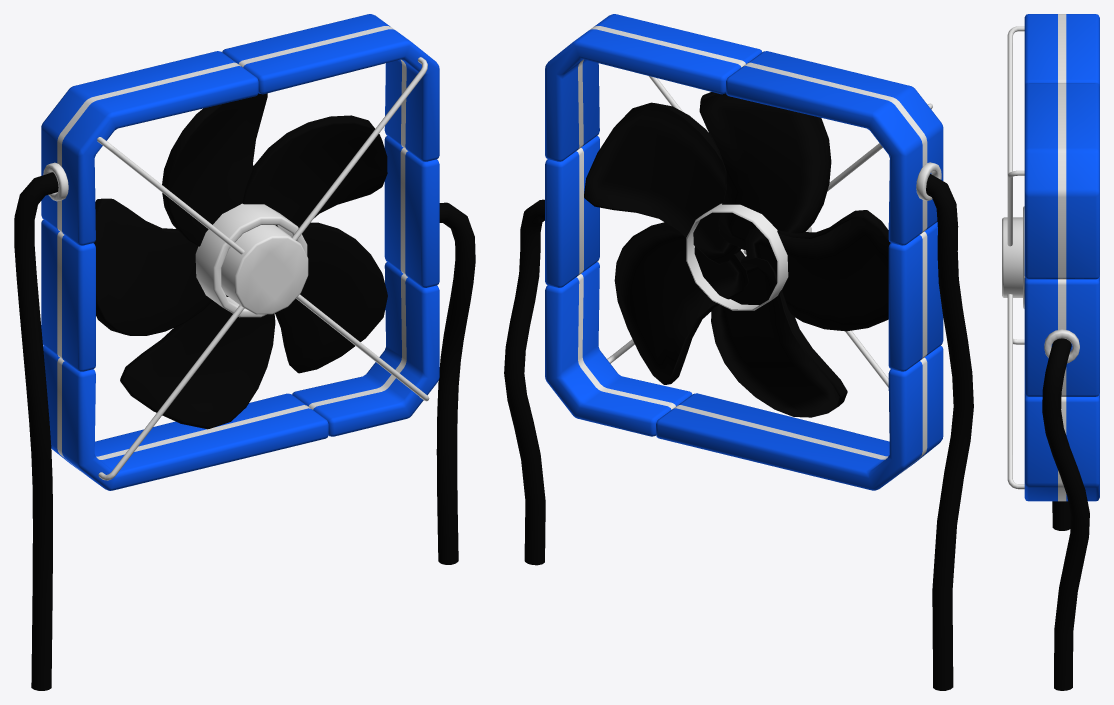
The model's file is LevelRework_Fan_FrameBaked.fbx.
The picture shows the model from 3 angles, left to right: view 1: azimuth 30°, elevation 25°; view 2: azimuth 150°, elevation 25°; view 3: azimuth 270°, elevation 25°; orthographic projection. The views are drawn at different scales.
Parts seen in each view (by area): view 1: Fan_FrameBaked, Fan_BladesBaked, NurbsCurveBaked.001, Fan_CenterBaked, NurbsCurveBaked, Fan_SupportPolesBaked; view 2: Fan_FrameBaked, Fan_BladesBaked, NurbsCurveBaked.001, NurbsCurveBaked, Fan_CenterBaked, Fan_SupportPolesBaked; view 3: Fan_FrameBaked, NurbsCurveBaked, Fan_SupportPolesBaked, Fan_CenterBaked, CylinderBaked, NurbsCurveBaked.001.
Boxes of the visible parts, left/top/right/bottom form: Fan_FrameBaked: left=41, top=14, right=439, bottom=490; Fan_BladesBaked: left=94, top=93, right=387, bottom=429; NurbsCurveBaked.001: left=14, top=172, right=58, bottom=690; Fan_CenterBaked: left=195, top=203, right=308, bottom=317; NurbsCurveBaked: left=436, top=202, right=475, bottom=564; Fan_SupportPolesBaked: left=97, top=57, right=429, bottom=480; Fan_FrameBaked: left=545, top=14, right=943, bottom=490; Fan_BladesBaked: left=584, top=92, right=890, bottom=417; NurbsCurveBaked.001: left=926, top=174, right=973, bottom=690; NurbsCurveBaked: left=504, top=199, right=545, bottom=565; Fan_CenterBaked: left=686, top=203, right=811, bottom=310; Fan_SupportPolesBaked: left=607, top=76, right=932, bottom=387; Fan_FrameBaked: left=1024, top=14, right=1099, bottom=501; NurbsCurveBaked: left=1042, top=338, right=1089, bottom=690; Fan_SupportPolesBaked: left=1007, top=26, right=1024, bottom=489; Fan_CenterBaked: left=1002, top=206, right=1024, bottom=308; CylinderBaked: left=1044, top=329, right=1079, bottom=363; NurbsCurveBaked.001: left=1052, top=501, right=1070, bottom=530.
Size of the model in its own units: 249 by 304 by 50.22.
